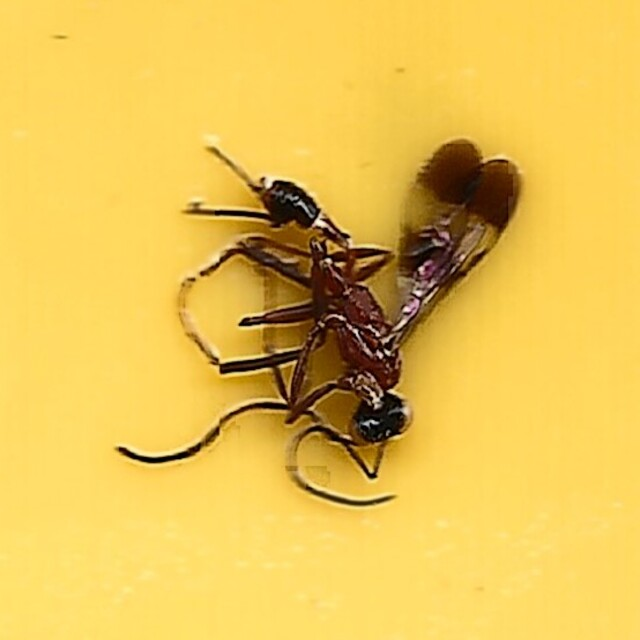Hymenoptera: (116, 131, 524, 509)
